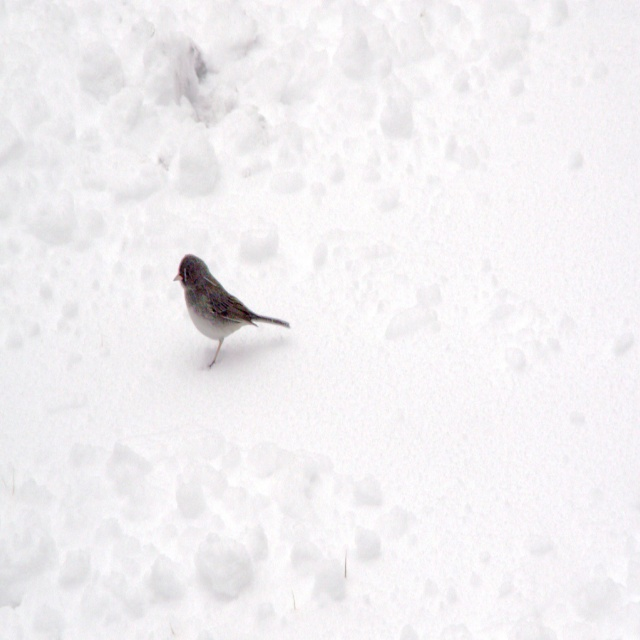Sparrow: (170, 253, 289, 364)
